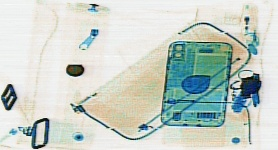lighter: (240, 1, 259, 46)
